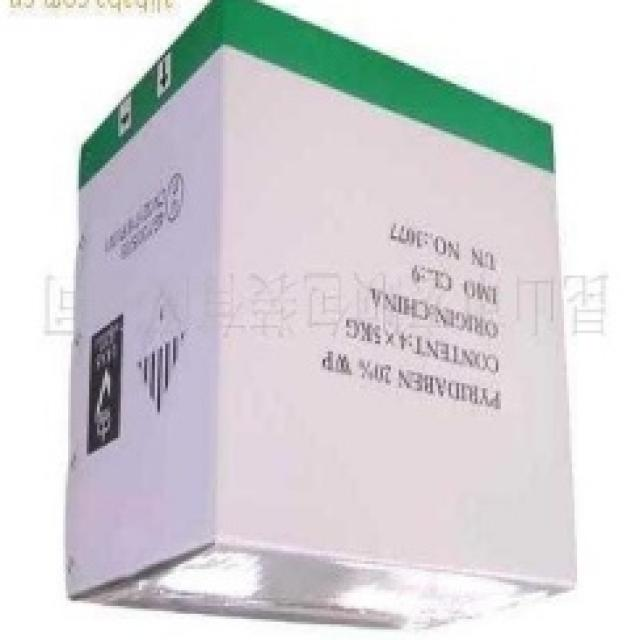box: (47, 26, 593, 640)
